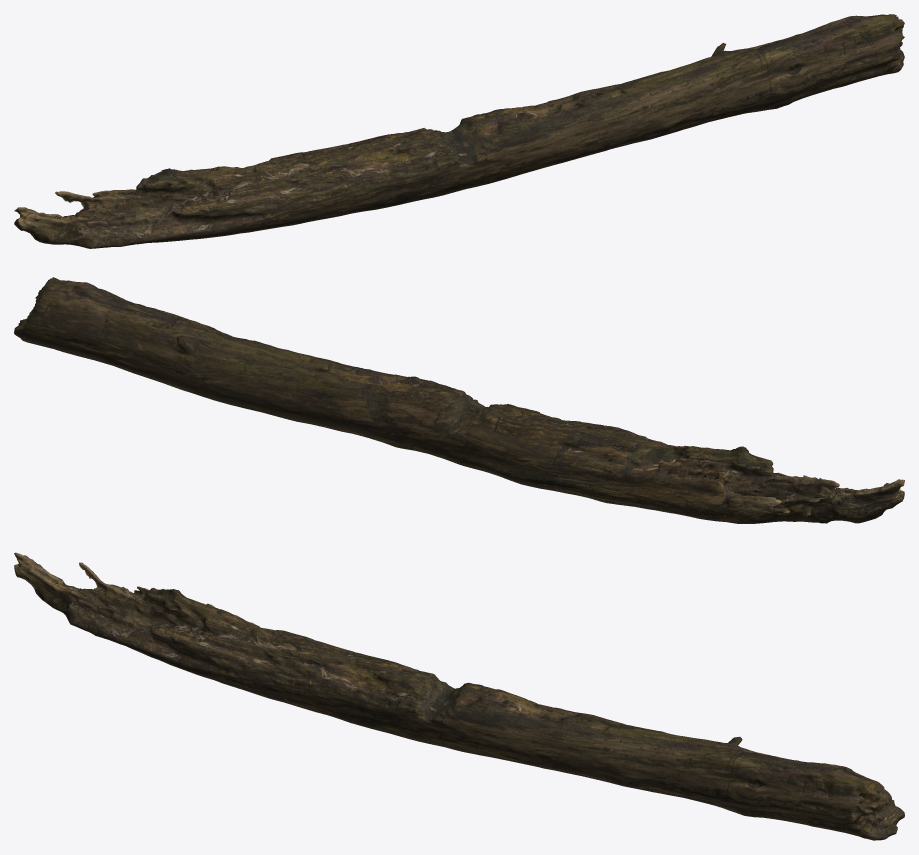
The model's file is dead_tree_trunk.fbx.
3 renders of one model, top to bottom at view 1: azimuth 30°, elevation 25°; view 2: azimuth 150°, elevation 25°; view 3: azimuth 330°, elevation 25°, orthographic.
Parts seen in each view (by area): view 1: dead_tree_trunk.001; view 2: dead_tree_trunk.001; view 3: dead_tree_trunk.001.
Part boxes in pixels (x1,y1,x2,y2): dead_tree_trunk.001: (14,14,904,248); dead_tree_trunk.001: (14,277,904,523); dead_tree_trunk.001: (14,552,904,840).
Size of the model in its own units: 305 by 28.96 by 27.72.
